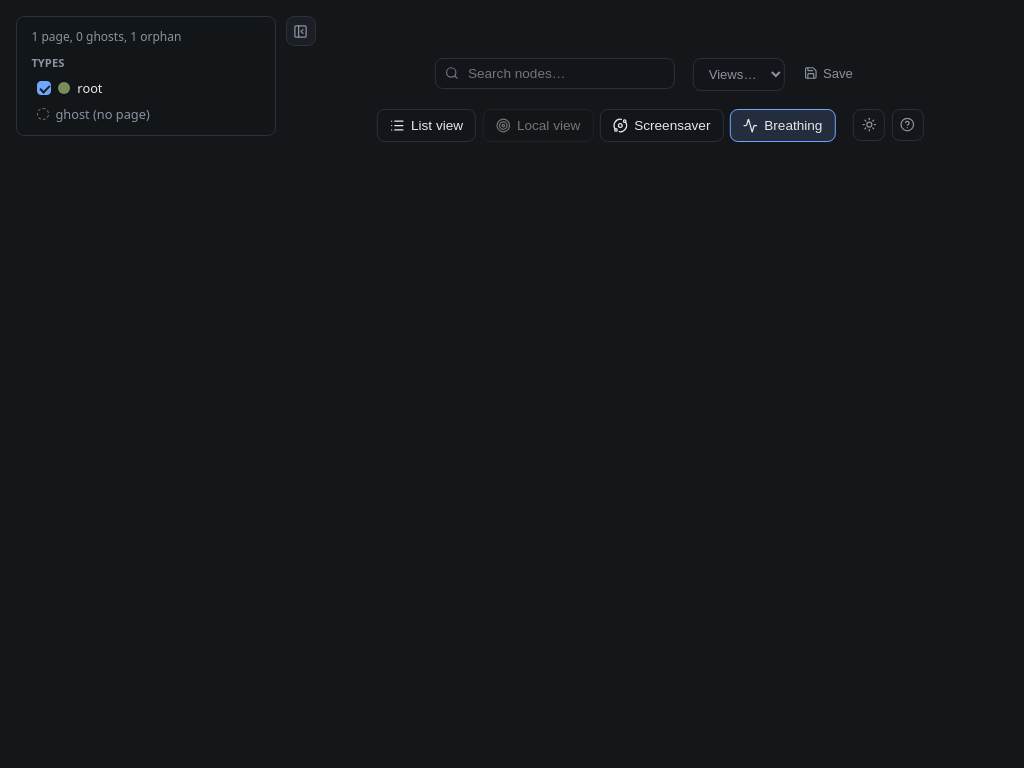
Test: App — onboarding overlay + document title › reopens the onboarding overlay via the toolbar's help button
Expected: the field labelled "Search nodes" is shown, x1=435 y1=58 x2=675 y2=89
Expected: the text "Reading the graph" is not shown
Click the button named "Show help": click(907, 125) x1=891 y1=109 x2=923 y2=141
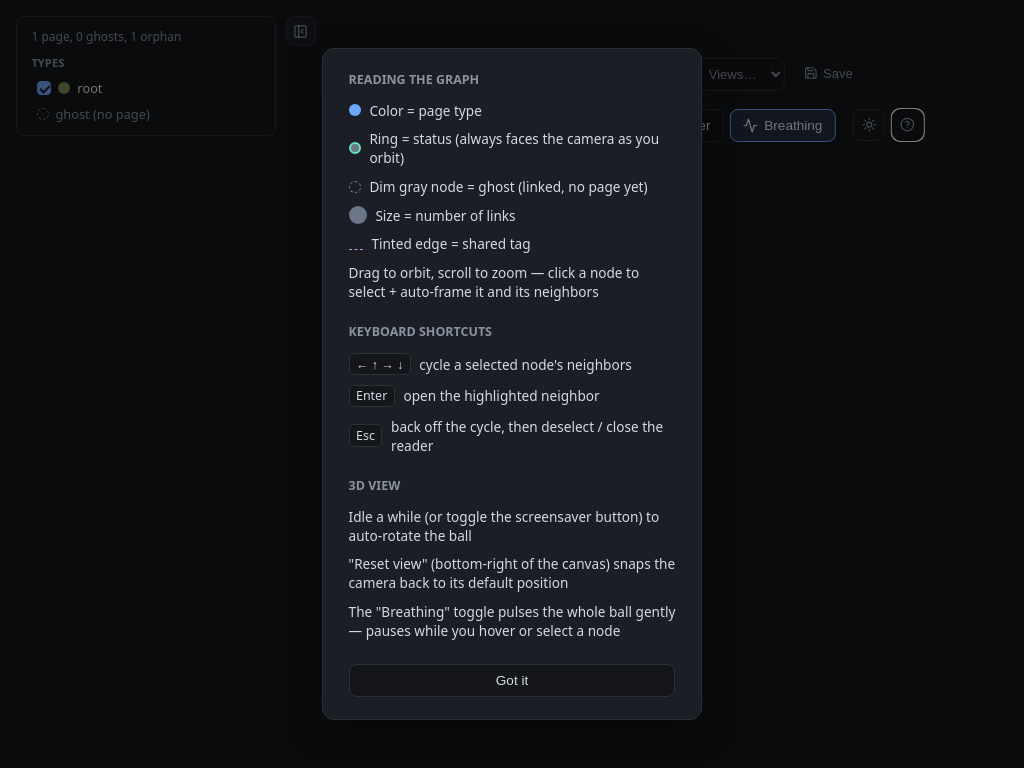
Now the heading "Reading the graph" is shown, box x1=349 y1=71 x2=479 y2=88
